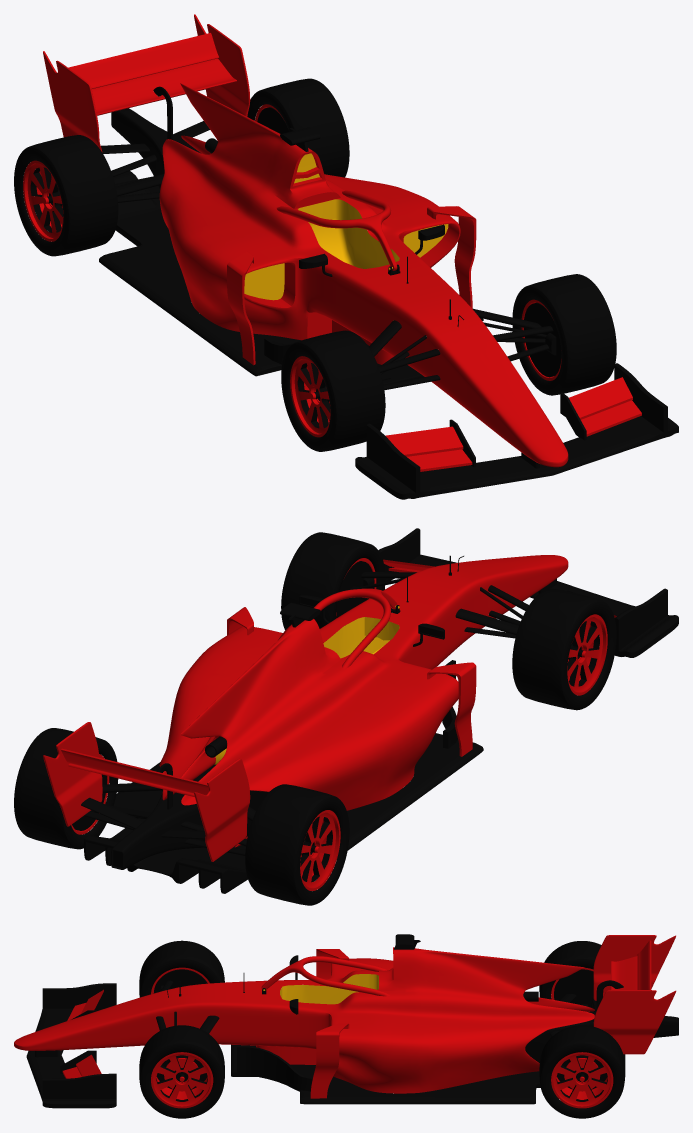
File: Women_accessory_Ferrari_px68_py15_pz-30_s0d3_5000.00371a1a.glb
3 views of the same model, one above another, from view 1: azimuth 30°, elevation 25°; view 2: azimuth 150°, elevation 25°; view 3: azimuth 270°, elevation 25° (orthographic). The views are drawn at different scales.
Visible parts, largest first — view 1: _gltfNode_0, _gltfNode_3, _gltfNode_13, _gltfNode_16, _gltfNode_4, _gltfNode_2, _gltfNode_10, _gltfNode_1, _gltfNode_14, _gltfNode_17; view 2: _gltfNode_0, _gltfNode_3, _gltfNode_16, _gltfNode_13, _gltfNode_4, _gltfNode_17, _gltfNode_14, _gltfNode_2, _gltfNode_10; view 3: _gltfNode_0, _gltfNode_3, _gltfNode_13, _gltfNode_4, _gltfNode_16, _gltfNode_10, _gltfNode_14, _gltfNode_17, _gltfNode_2, _gltfNode_9.
Part boxes in pixels (box(x1,y1,x2,y2)): _gltfNode_0: box(43, 14, 641, 471); _gltfNode_3: box(99, 86, 553, 468); _gltfNode_13: box(281, 274, 616, 451); _gltfNode_16: box(14, 78, 349, 256); _gltfNode_4: box(355, 363, 678, 499); _gltfNode_2: box(298, 199, 399, 268); _gltfNode_10: box(47, 107, 561, 401); _gltfNode_1: box(244, 153, 448, 300); _gltfNode_14: box(290, 299, 561, 437); _gltfNode_17: box(23, 104, 284, 241); _gltfNode_0: box(43, 555, 616, 861); _gltfNode_3: box(81, 555, 556, 893); _gltfNode_16: box(14, 728, 349, 905); _gltfNode_13: box(281, 532, 616, 710); _gltfNode_4: box(378, 528, 678, 657); _gltfNode_17: box(71, 754, 340, 890); _gltfNode_14: box(336, 558, 607, 695); _gltfNode_2: box(323, 617, 399, 658); _gltfNode_10: box(72, 561, 583, 855); _gltfNode_0: box(14, 935, 676, 1098); _gltfNode_3: box(35, 934, 678, 1104); _gltfNode_13: box(139, 940, 224, 1118); _gltfNode_4: box(26, 983, 116, 1108); _gltfNode_16: box(539, 941, 625, 1118); _gltfNode_10: box(153, 969, 607, 1089); _gltfNode_14: box(151, 967, 213, 1108); _gltfNode_17: box(551, 967, 613, 1108); _gltfNode_2: box(280, 974, 378, 1004); _gltfNode_9: box(164, 1058, 600, 1091).
Bounding box in the file's own units: 170 × 99.24 × 463.
